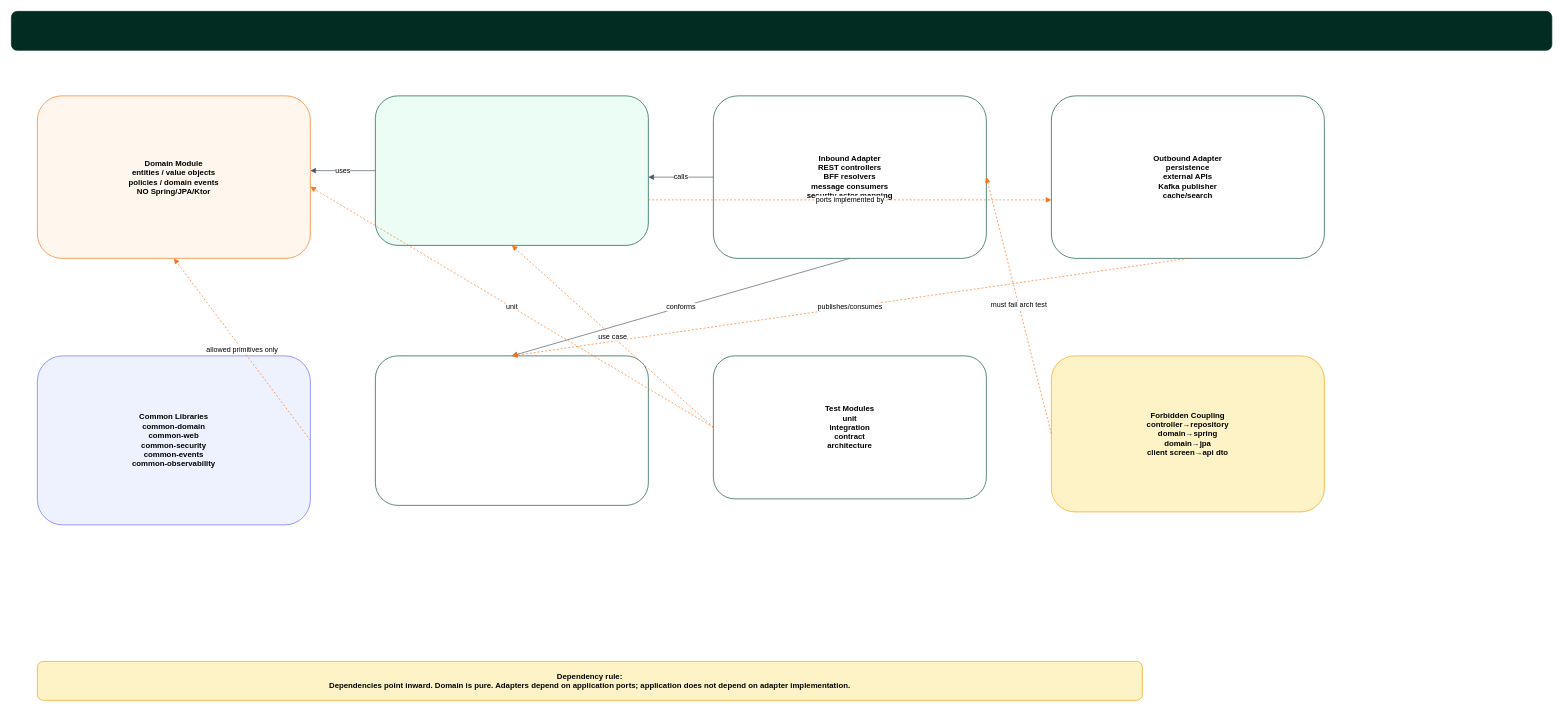
The diagram is 1563 pixels wide and 712 high, and some of its shapes have lost their labels. The shapes that lost their labels are listed below. From the top down, each one's centre as x and y in pixels, then its label:
At point 781,30: "Viaverse Module Dependency Rules — Class/Package Model".
At point 511,170: "Application Module use cases commands/queries ports transaction boundary".
At point 511,430: "Contract Artifacts OpenAPI event schemas protobuf optional JSON schema".
